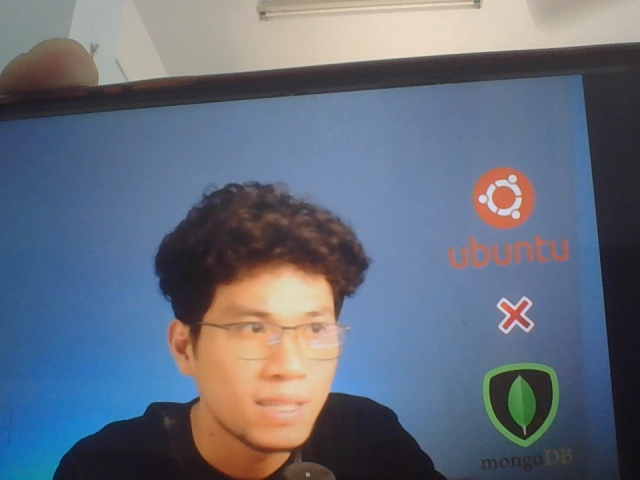fake: (170, 189, 363, 462)
